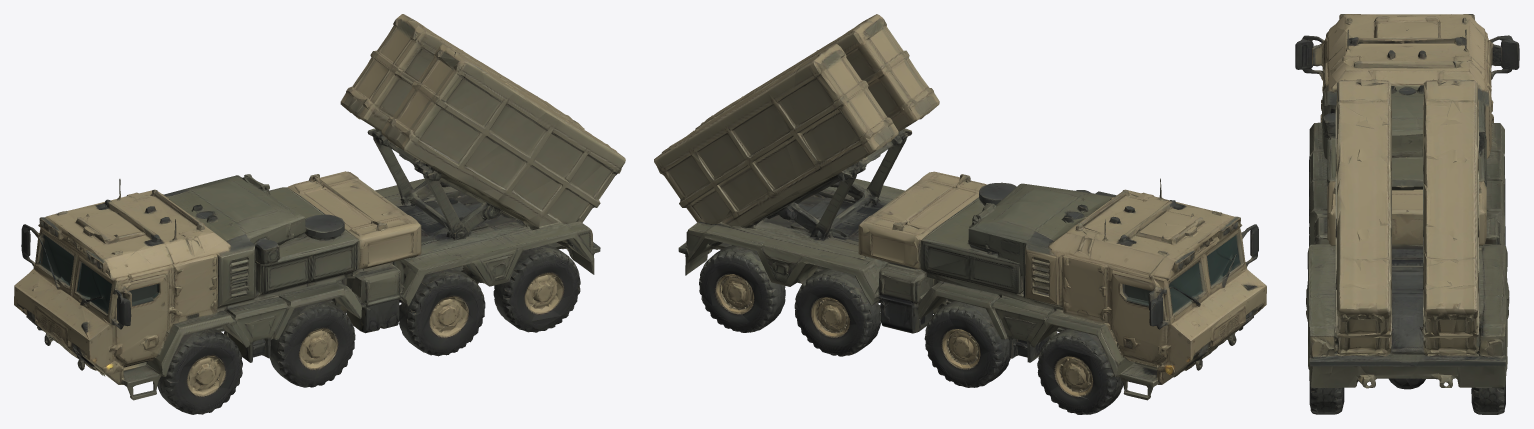
Rendered from coastal-defense-tel-meshy6-web-v1.glb.
3 views of the same model, side by side, from view 1: azimuth 30°, elevation 25°; view 2: azimuth 150°, elevation 25°; view 3: azimuth 270°, elevation 25° (orthographic). The views are drawn at different scales.
Size of the model in its own units: 1.9 by 0.935 by 0.6391.
Materials: 1 (1 with a texture image).
